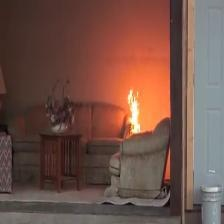fire: (118, 83, 147, 140)
